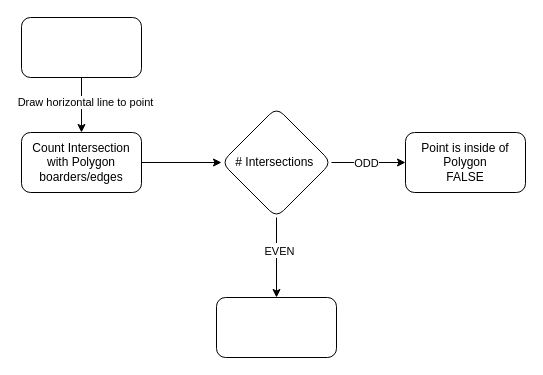
Some shapes in this 543 by 375 pixel diagram are drawn without their labels. The box of each missing label's shape, as (x1, y1, x2, y2) in pixels:
Input Point (x, y): (20, 16, 142, 78)
Point is outside of Polygon TRUE: (216, 296, 336, 358)
